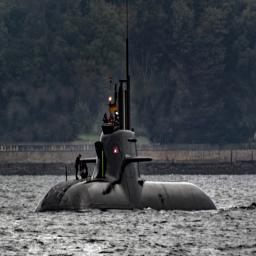submarine: (31, 7, 219, 215)
